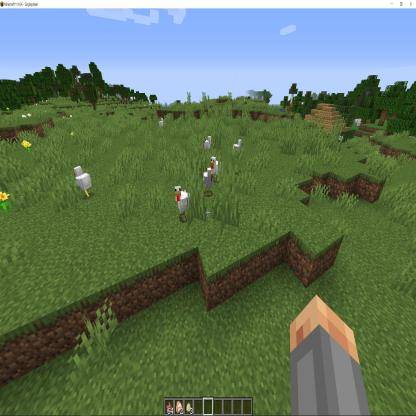minecraft-pigs: (71, 164, 97, 201), (174, 186, 193, 224), (203, 165, 214, 196), (211, 155, 223, 182), (232, 136, 244, 162), (202, 133, 212, 155), (158, 116, 165, 131)
